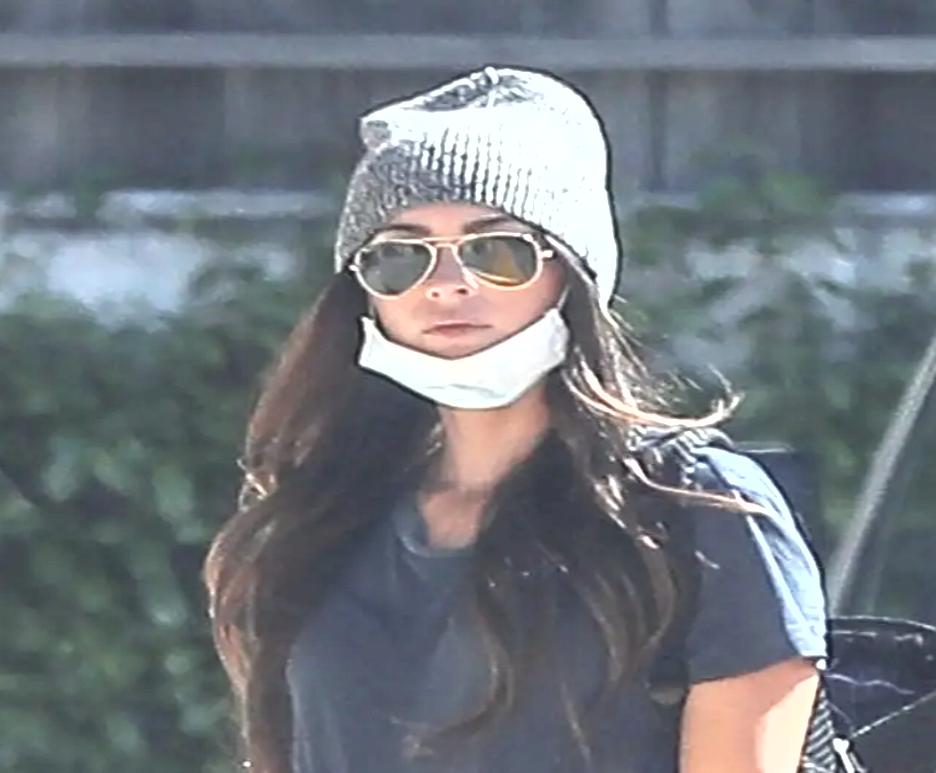mask_weared_incorrect: (335, 70, 617, 416)
